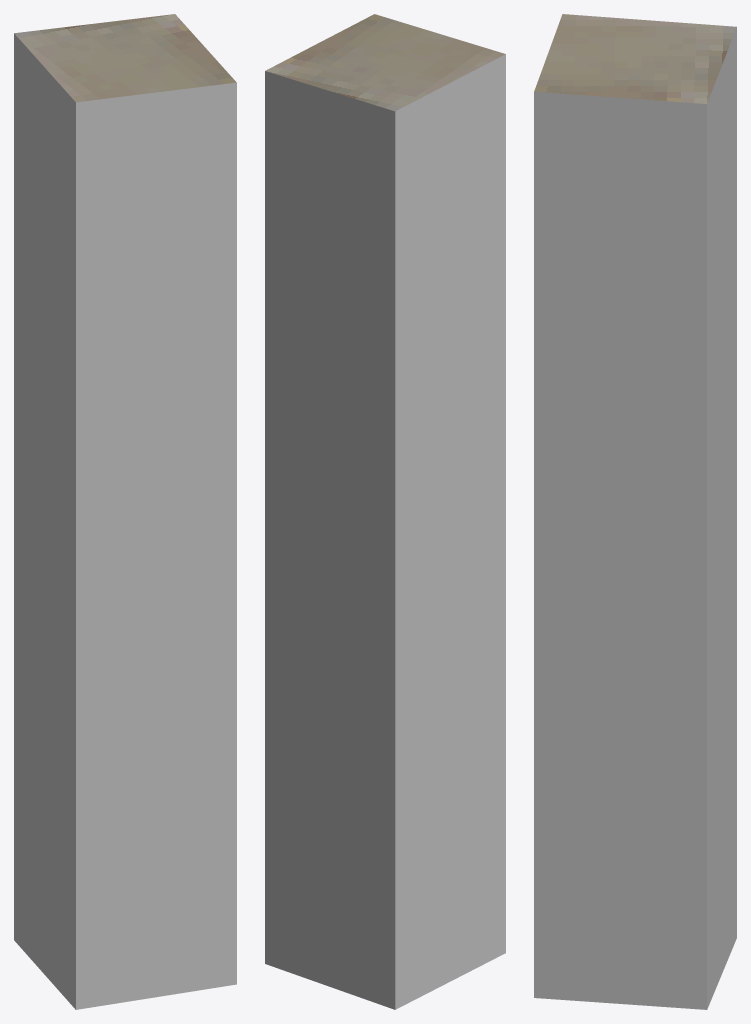
The model's file is DEBW_0010007THXC.gltf.
3 renders of one model, left to right at view 1: azimuth 30°, elevation 25°; view 2: azimuth 150°, elevation 25°; view 3: azimuth 270°, elevation 25°, orthographic.
Parts seen in each view (by area): view 1: Z_UP; view 2: Z_UP; view 3: Z_UP.
Boxes of the visible parts, x1,y1,x2,y2 form: Z_UP: (14, 14, 236, 1009); Z_UP: (265, 14, 505, 1009); Z_UP: (534, 14, 736, 1009).
Bounding box in the file's own units: 2.94 × 14.88 × 3.
2 materials, 1 textured.
